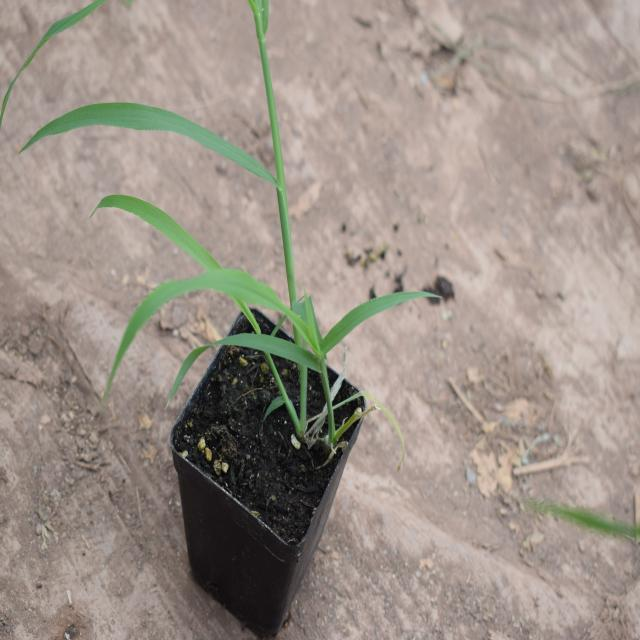crabgrass: (91, 170, 369, 436)
